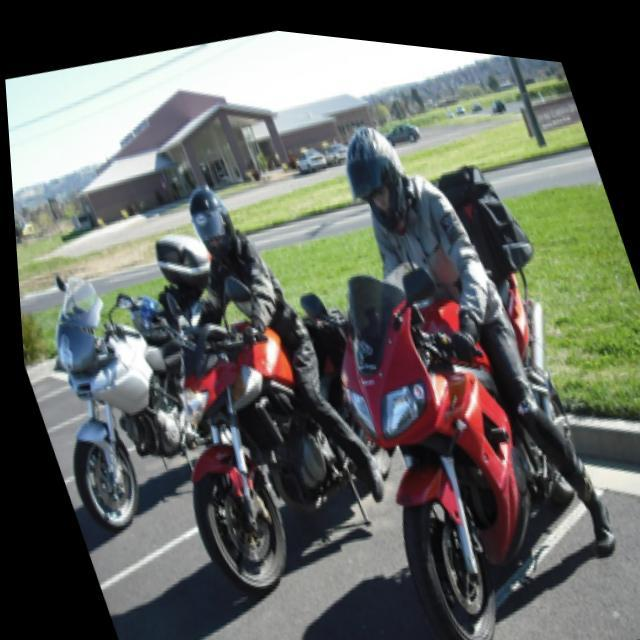Helmet: (339, 122, 417, 234), (179, 172, 247, 266)
